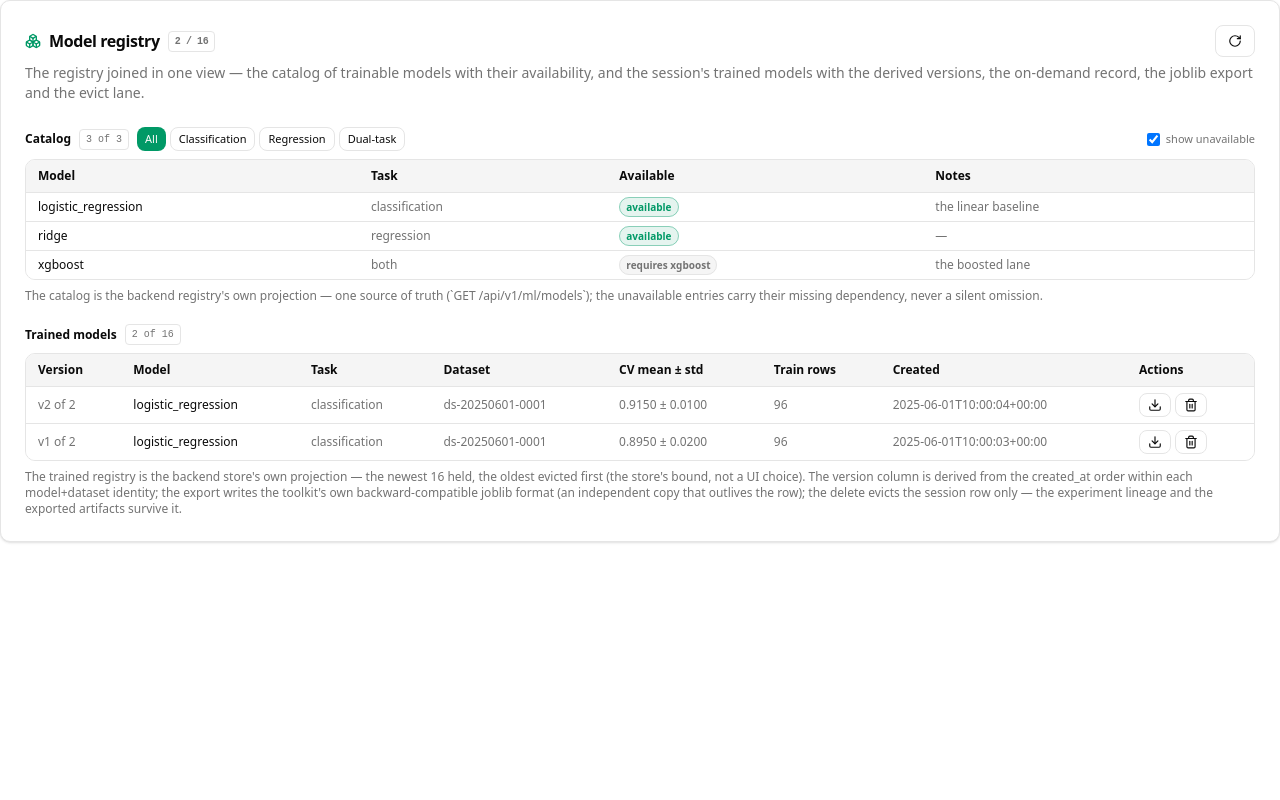
Test: ModelRegistry (part16 §15.3) › surfaces a rejected eviction through the error banner and refreshes honestly
Expected: the text "2 / 16" is shown, [168,30,215,52]
Click the button named "delete logistic_regression from the session registry" in the row of "0.9150 ± 0.0100". click: (1191, 405)
box: [1175,393,1207,417]
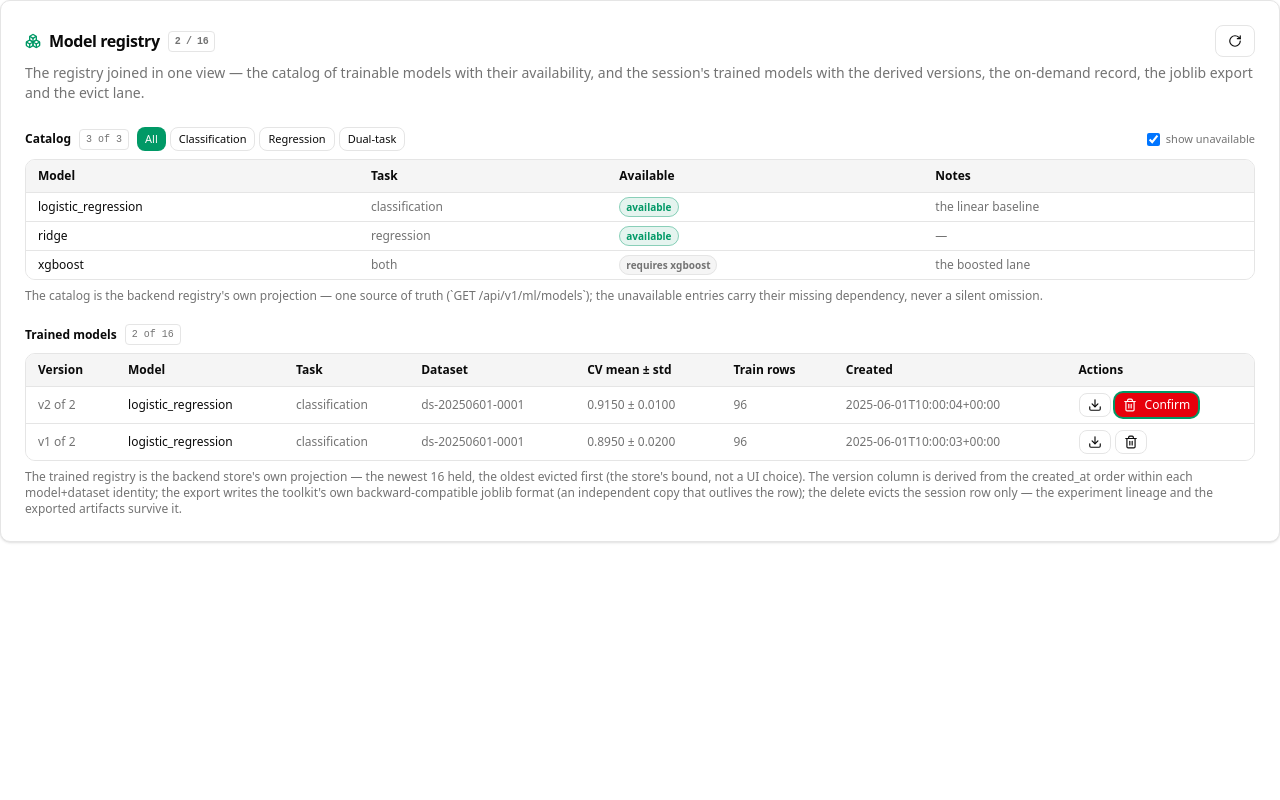
Click the button with aria-label "delete logistic_regression from the session registry". click: (1156, 405)
box: [1114,393,1198,417]
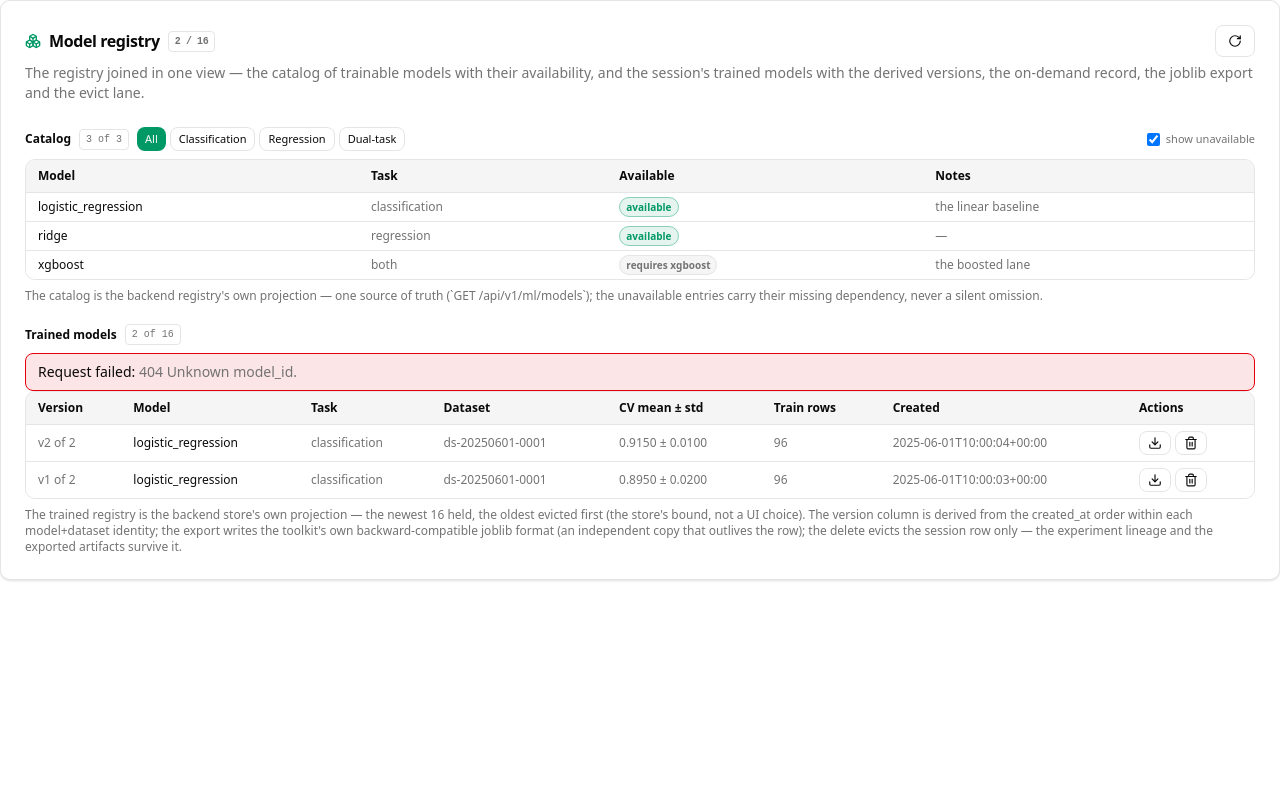
Expected: the text "2 / 16" is shown, [168,30,215,52]
Now the text "404 Unknown model_id." is shown, box [139,362,297,381]
